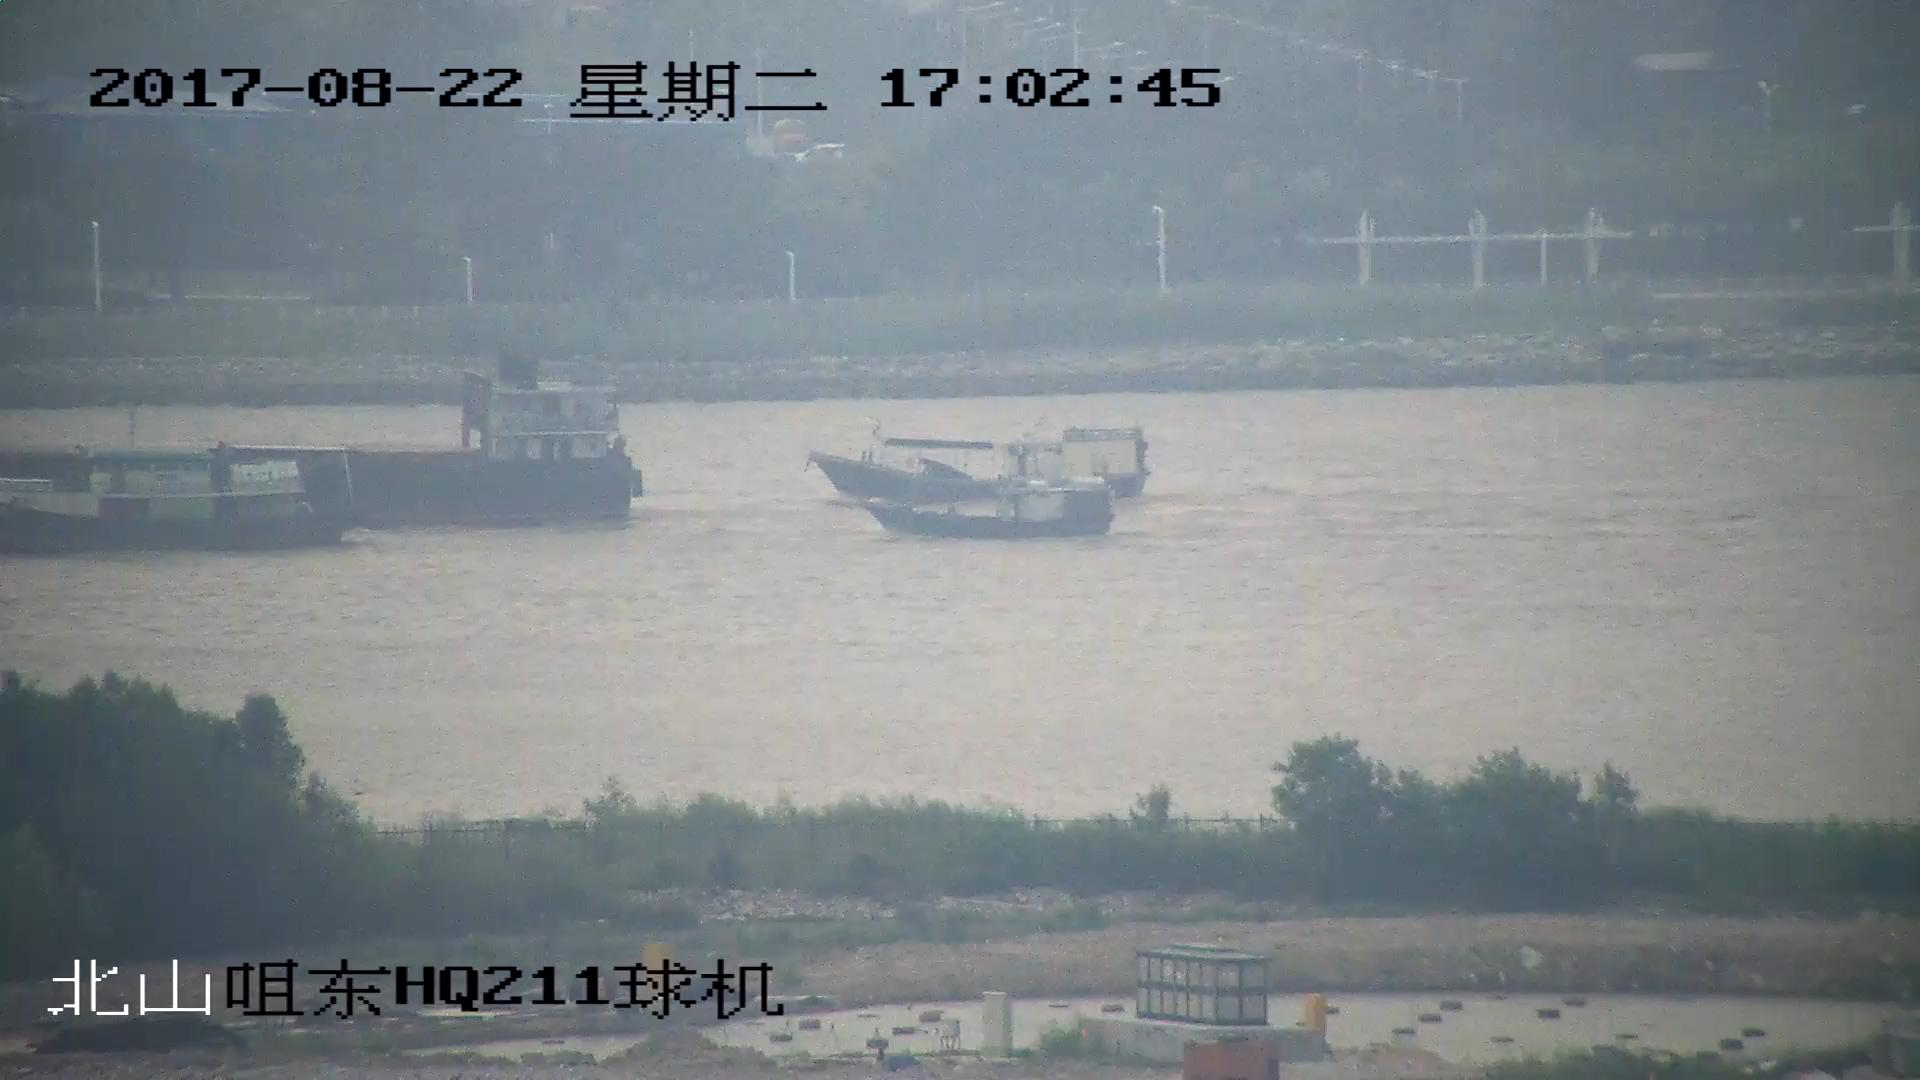fishing boat: (1, 448, 357, 549), (804, 418, 1148, 510), (865, 476, 1106, 542)
general cargo ship: (1, 361, 629, 519)
